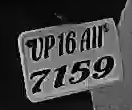1: (54, 61, 69, 91), (57, 32, 66, 58)
5: (68, 55, 90, 86)
6: (65, 29, 77, 54)
7: (28, 65, 52, 96)
9: (91, 52, 115, 80)
A: (79, 28, 91, 52)
H: (92, 24, 106, 50)
P: (44, 33, 56, 59)
U: (31, 36, 44, 61)
